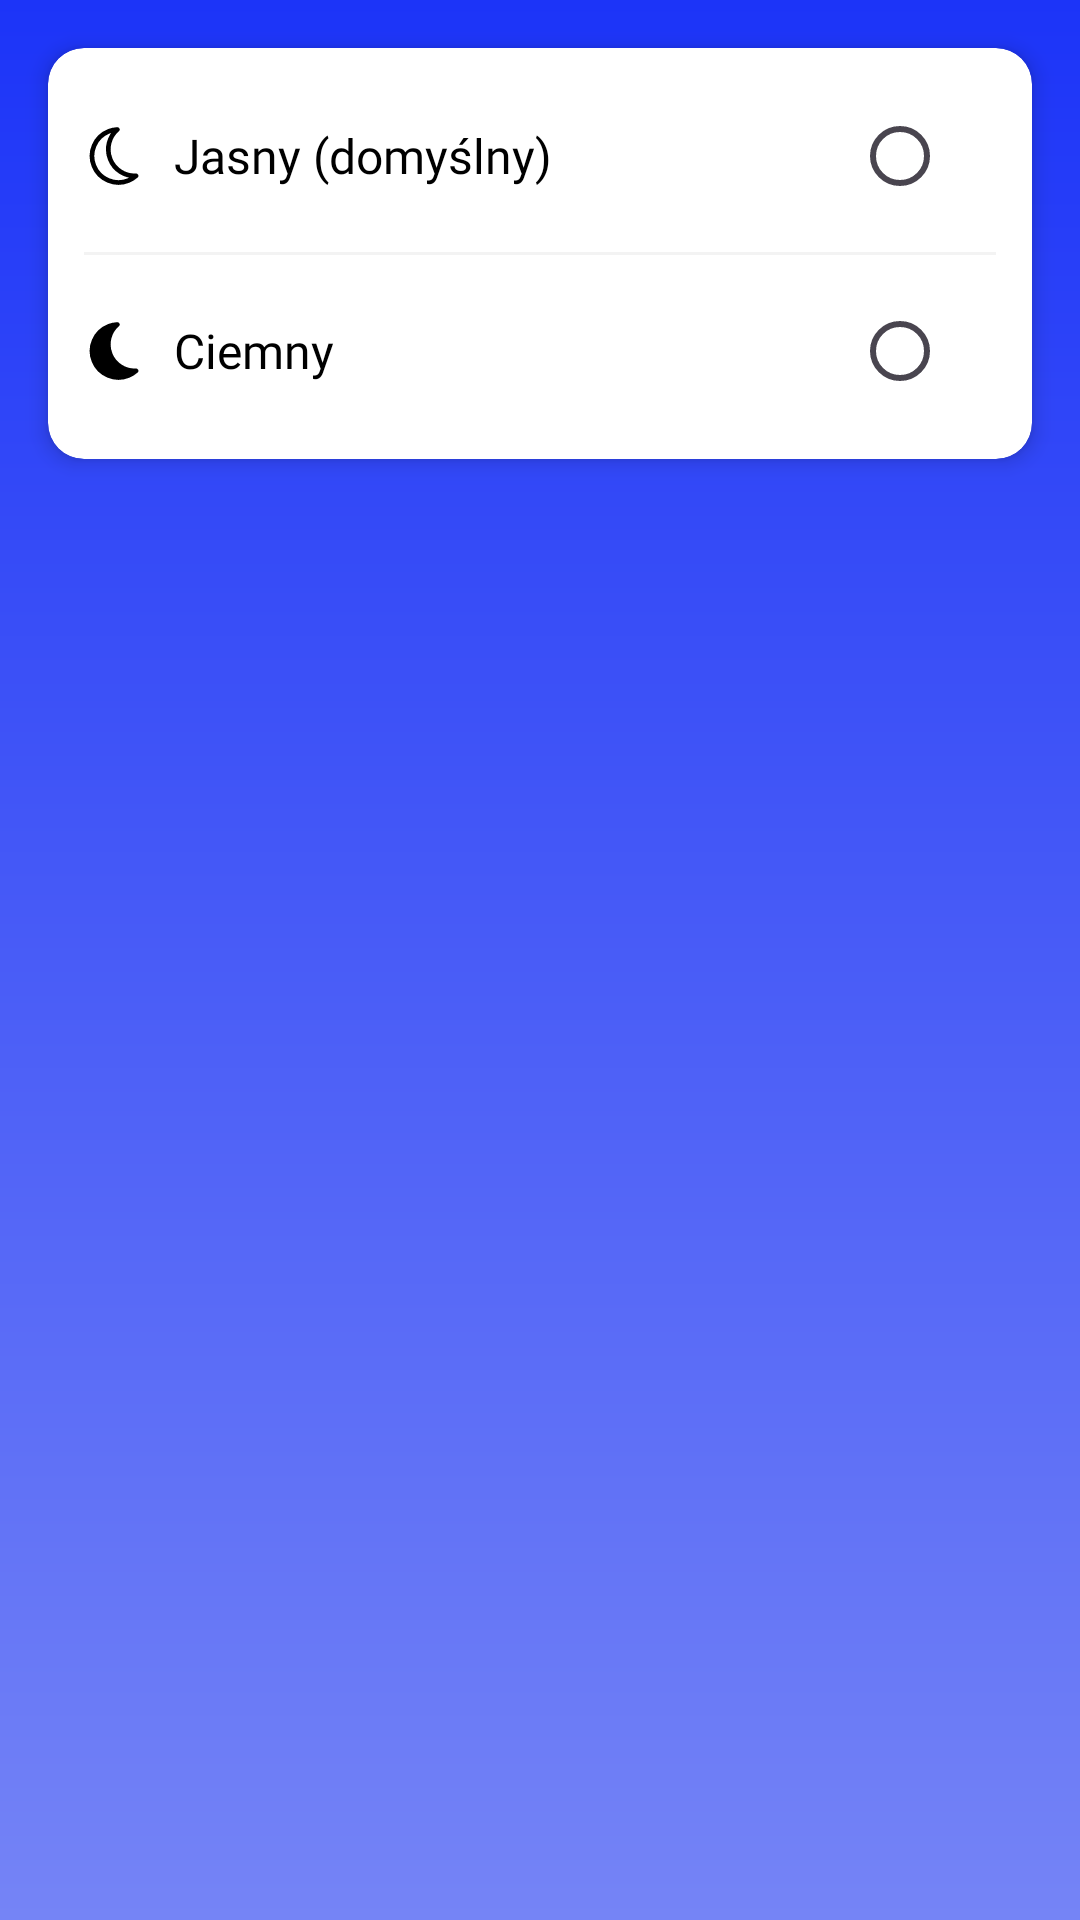

Where icons sit on this 1080x1920 app screen, as (x1,y1,x2,y2):
theme: (89,127,139,185), (89,322,139,380)
